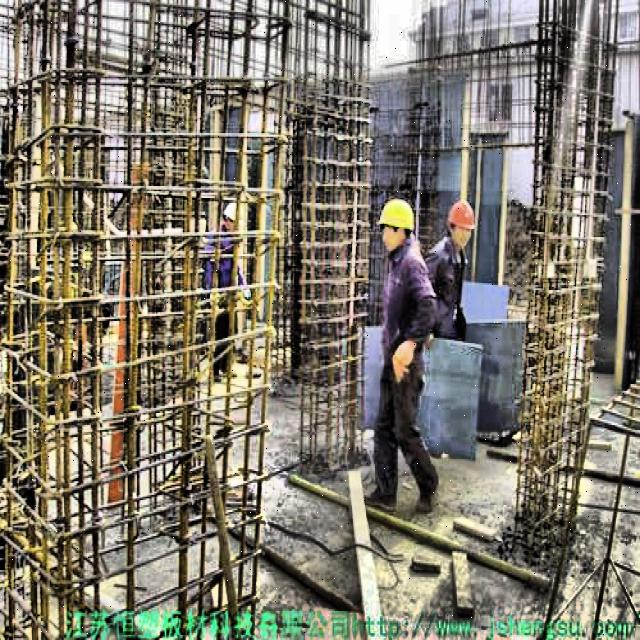helmet: (376, 198, 414, 256), (449, 198, 475, 252), (222, 198, 248, 242)
